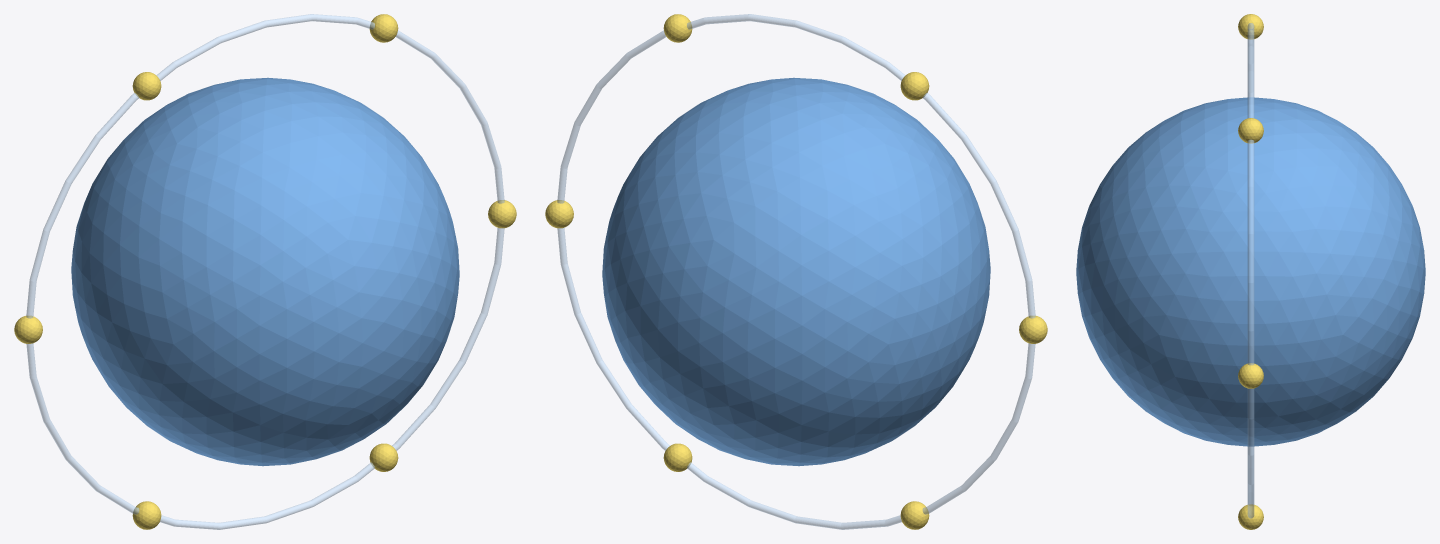
Rendered from PO4_minus3.glb.
3 renders of one model, left to right at view 1: azimuth 30°, elevation 25°; view 2: azimuth 150°, elevation 25°; view 3: azimuth 270°, elevation 25°, orthographic. The views are drawn at different scales.
Parts seen in each view (by area): view 1: ion_core, electron_shell, electron_3, electron_0, electron_5, electron_2, electron_1, electron_4; view 2: ion_core, electron_shell, electron_3, electron_0, electron_5, electron_2, electron_1, electron_4; view 3: ion_core, electron_shell, electron_0, electron_1, electron_2, electron_5.
Part boxes in pixels (left/top/right/bottom): ion_core: left=71, top=77, right=459, bottom=466; electron_shell: left=26, top=14, right=504, bottom=529; electron_3: left=14, top=315, right=42, bottom=343; electron_0: left=488, top=200, right=516, bottom=228; electron_5: left=369, top=443, right=398, bottom=471; electron_2: left=132, top=72, right=161, bottom=100; electron_1: left=369, top=14, right=398, bottom=42; electron_4: left=132, top=501, right=161, bottom=529; ion_core: left=602, top=77, right=990, bottom=466; electron_shell: left=557, top=14, right=1035, bottom=529; electron_3: left=1019, top=315, right=1047, bottom=343; electron_0: left=545, top=200, right=573, bottom=228; electron_5: left=663, top=443, right=692, bottom=471; electron_2: left=900, top=72, right=929, bottom=100; electron_1: left=663, top=14, right=692, bottom=42; electron_4: left=900, top=501, right=929, bottom=529; ion_core: left=1076, top=97, right=1425, bottom=446; electron_shell: left=1247, top=23, right=1254, bottom=518; electron_0: left=1238, top=363, right=1263, bottom=388; electron_1: left=1238, top=118, right=1263, bottom=143; electron_2: left=1238, top=14, right=1263, bottom=39; electron_5: left=1238, top=504, right=1263, bottom=529.
Size of the model in its own units: 4 by 3.85 by 2.7.
